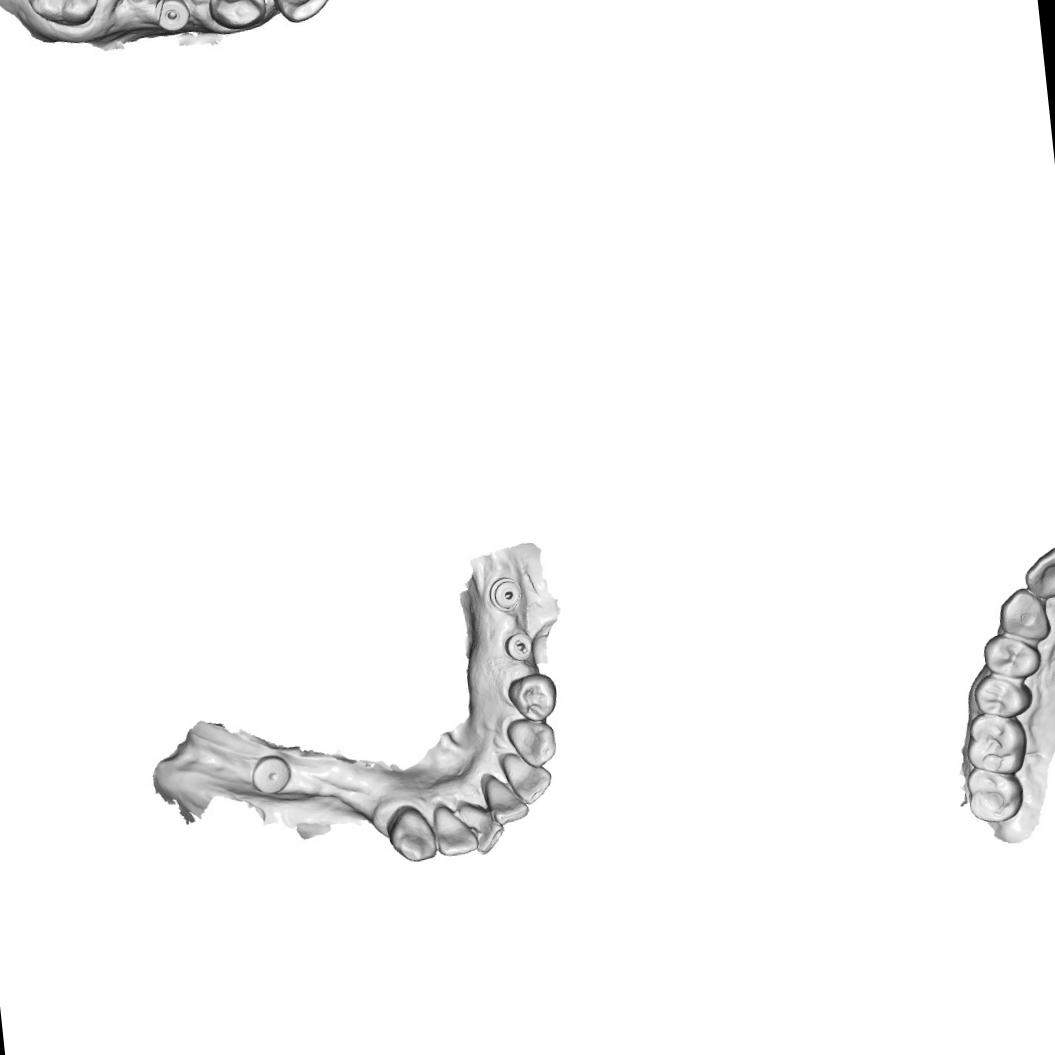canine: (384, 804, 438, 866), (996, 585, 1052, 644), (505, 715, 561, 772), (206, 0, 268, 34)
implant: (248, 752, 294, 797), (486, 576, 524, 615), (152, 0, 189, 34)
implant_minus: (502, 630, 536, 662)
incisor: (500, 748, 555, 808), (456, 797, 508, 856), (430, 800, 480, 859), (482, 771, 532, 828), (1021, 543, 1055, 602), (266, 0, 330, 25)
molar: (962, 708, 1030, 779), (965, 764, 1026, 826), (14, 0, 107, 31)
premolar: (971, 668, 1035, 722), (981, 628, 1043, 683), (505, 670, 560, 725)
